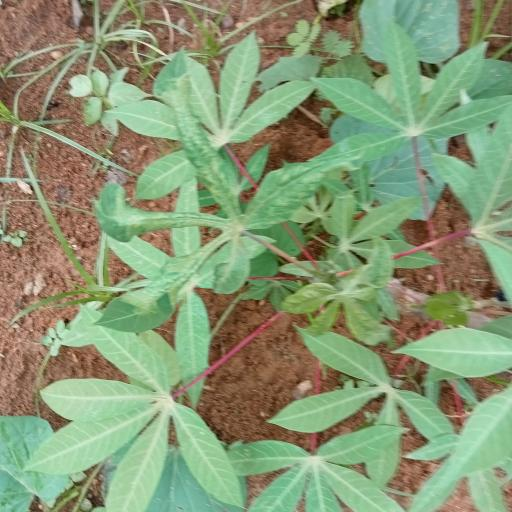Cassava_Mosaic: (95, 80, 370, 336), (34, 324, 238, 510), (322, 29, 512, 169), (226, 433, 399, 512)
